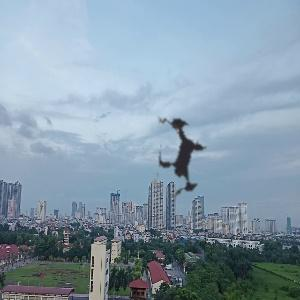drone: (116, 94, 249, 227)
